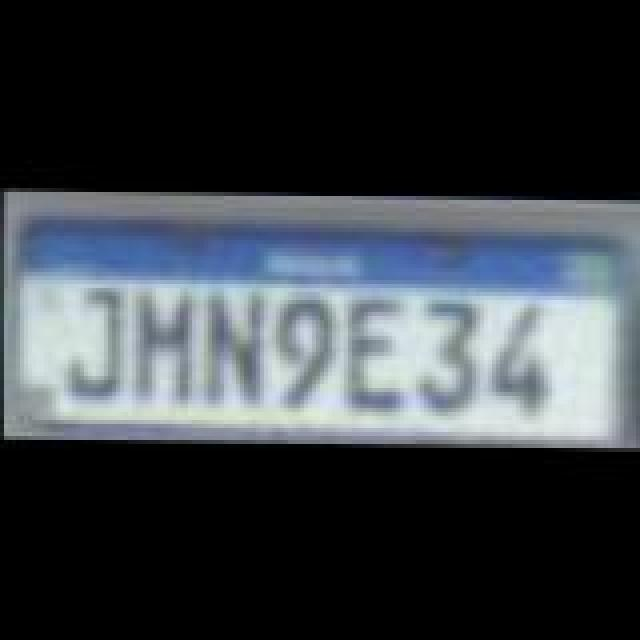3: (406, 296, 478, 412)
4: (482, 300, 554, 412)
9: (268, 288, 336, 408)
E: (340, 292, 408, 412)
J: (64, 288, 132, 400)
M: (122, 286, 202, 406)
N: (198, 286, 270, 414)
